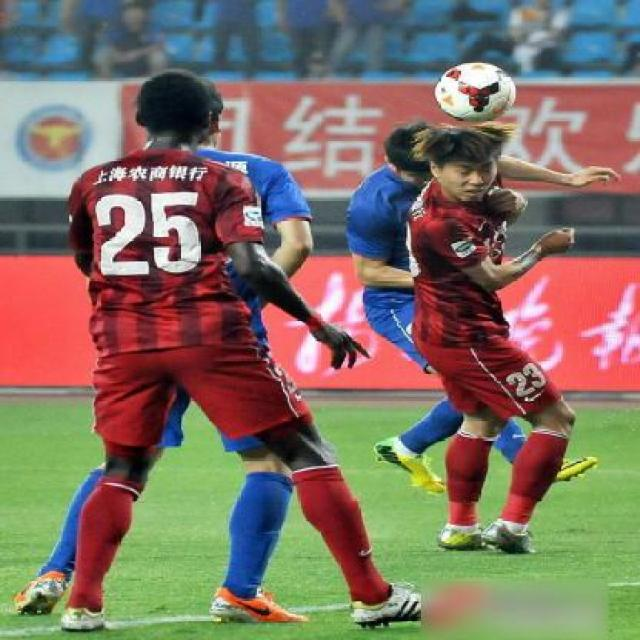Person: (381, 103, 599, 554)
